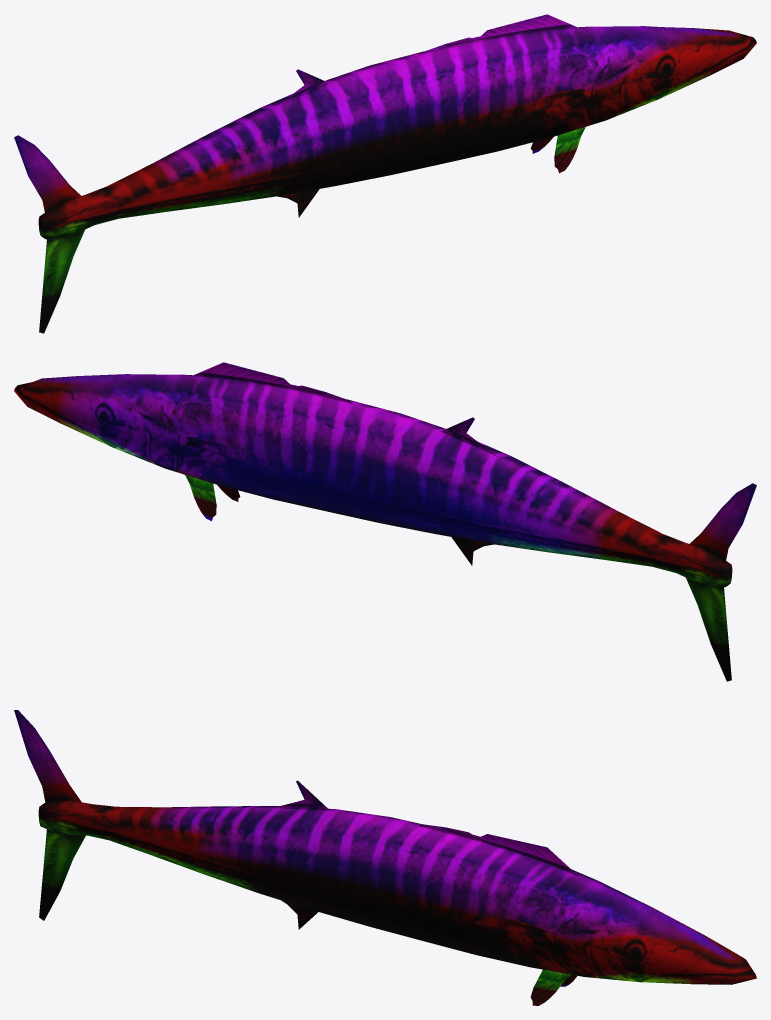
File: wahoo.glb
3 renders of one model, top to bottom at view 1: azimuth 30°, elevation 25°; view 2: azimuth 150°, elevation 25°; view 3: azimuth 330°, elevation 25°, orthographic.
Visible parts, largest first — view 1: Wahoo; view 2: Wahoo; view 3: Wahoo.
Part boxes in pixels (<box>): Wahoo: <box>14,14,756,333</box>; Wahoo: <box>14,362,756,681</box>; Wahoo: <box>14,710,756,1005</box>.
Bounding box in the file's own units: 1 × 0.2634 × 0.1189.
Materials: 1 (1 with a texture image).
